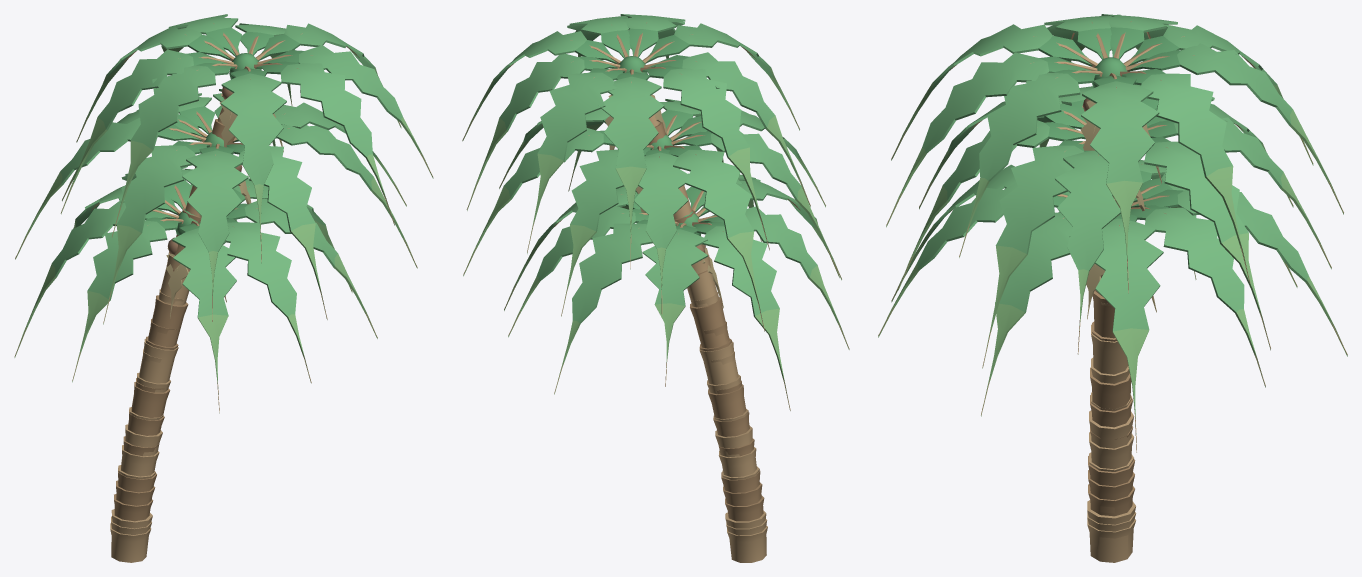
File: palms.glb
The picture shows the model from 3 angles, left to right: view 1: azimuth 30°, elevation 25°; view 2: azimuth 150°, elevation 25°; view 3: azimuth 270°, elevation 25°; orthographic projection. The views are drawn at different scales.
Parts seen in each view (by area): view 1: palm_2, palm_1, palm_0; view 2: palm_2, palm_1, palm_0; view 3: palm_2, palm_1, palm_0.
Part boxes in pixels (x1=…): palm_2: x1=60, y1=14, x2=433, y2=561; palm_1: x1=15, y1=89, x2=417, y2=555; palm_0: x1=14, y1=166, x2=377, y2=562; palm_2: x1=462, y1=14, x2=810, y2=561; palm_1: x1=463, y1=99, x2=839, y2=561; palm_0: x1=504, y1=173, x2=849, y2=562; palm_2: x1=886, y1=14, x2=1343, y2=562; palm_1: x1=898, y1=84, x2=1331, y2=556; palm_0: x1=878, y1=160, x2=1347, y2=557.
Size of the model in its own units: 7.97 by 10.18 by 7.6.
